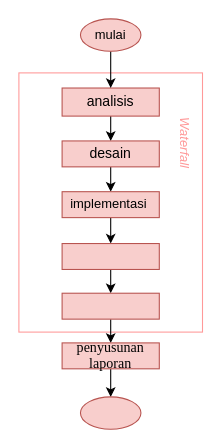
This 221x448 diagram has some shape labels left out. Here are the shapes that lost their labels. From the top down, the centre of each, then its label:
[110,255]: pengujian
[110,305]: pemeliharaan
[110,412]: selesai
